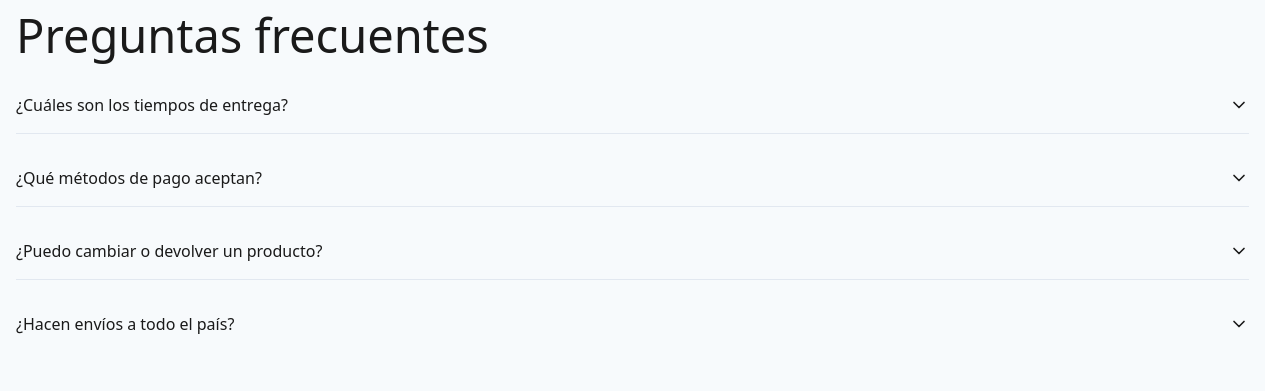
Test: Faq › sets aria-expanded on the toggle button to match open state
Click the button "¿Cuáles son los tiempos de entrega?": (152, 105) [16,77,1249,133]
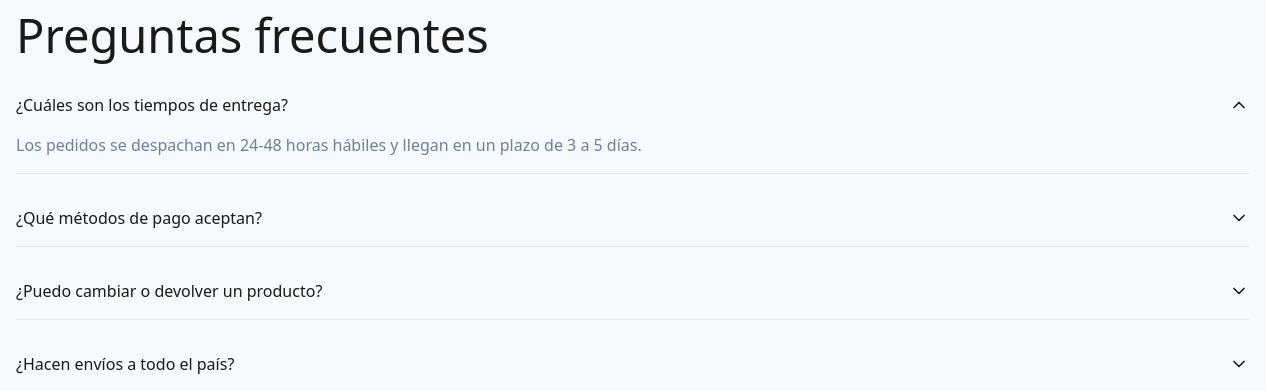
expect the button "¿Cuáles son los tiempos de entrega?" is expanded: met, box [16,77,1249,133]
